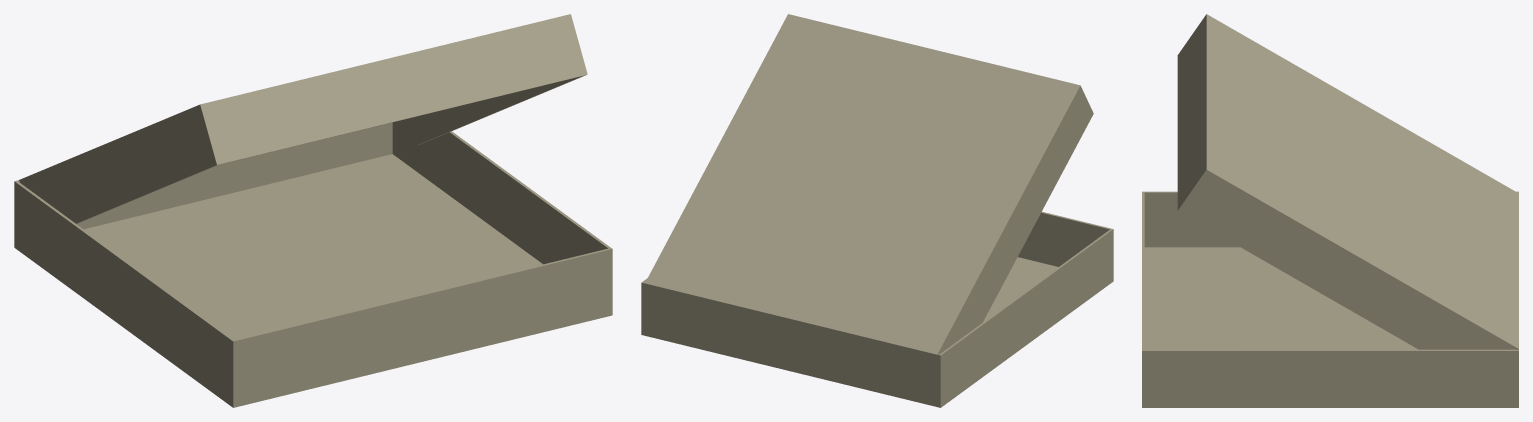
The model's file is PS_PizzaBox01.fbx.
3 views of the same model, side by side, from view 1: azimuth 30°, elevation 25°; view 2: azimuth 150°, elevation 25°; view 3: azimuth 270°, elevation 25° (orthographic). The views are drawn at different scales.
Parts seen in each view (by area): view 1: PS_PizzaBox01; view 2: PS_PizzaBox01; view 3: PS_PizzaBox01.
Part boxes in pixels (bbox=[...]): PS_PizzaBox01: bbox=[14, 14, 612, 407]; PS_PizzaBox01: bbox=[641, 14, 1113, 407]; PS_PizzaBox01: bbox=[1142, 14, 1518, 407].
Bounding box in the file's own units: 0.6943 × 0.4809 × 0.6943.
